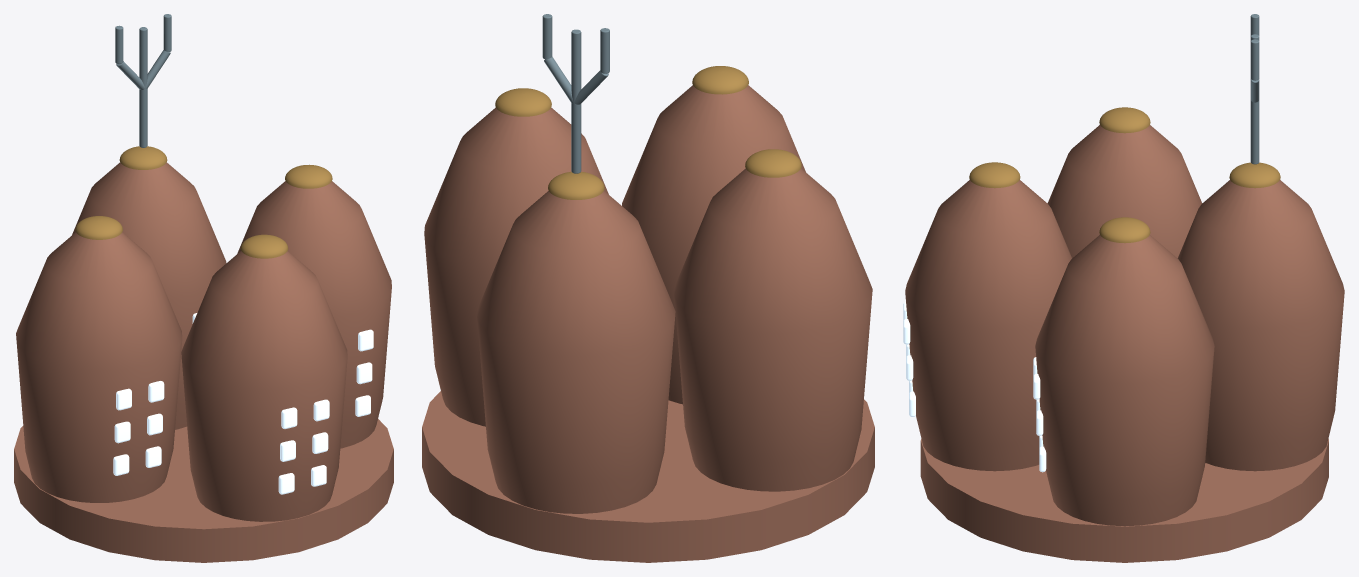
The picture shows the model from 3 angles, left to right: view 1: azimuth 30°, elevation 25°; view 2: azimuth 150°, elevation 25°; view 3: azimuth 270°, elevation 25°; orthographic projection. The views are drawn at different scales.
Parts seen in each view (by area): view 1: Bulb shaped chamber.002, Bulb shaped chamber.001, Foundation drum, Bulb shaped chamber.003, Bulb shaped chamber, Aerial stem, Tower crown.002, Tower crown.001, Tower crown.003, Tower crown; view 2: Bulb shaped chamber.001, Bulb shaped chamber, Foundation drum, Bulb shaped chamber.003, Bulb shaped chamber.002, Aerial stem, Tower crown.001, Tower crown.003, Tower crown.002, Tower crown; view 3: Bulb shaped chamber.003, Bulb shaped chamber, Bulb shaped chamber.002, Foundation drum, Bulb shaped chamber.001, Tower crown.001, Tower crown.003, Tower crown.002, Tower crown, Aerial stem.
Part boxes in pixels (x1,y1,x2,y2): Bulb shaped chamber.002: [181, 251, 347, 521]; Bulb shaped chamber.001: [16, 232, 182, 502]; Foundation drum: [14, 419, 393, 562]; Bulb shaped chamber.003: [237, 181, 391, 448]; Bulb shaped chamber: [72, 162, 226, 429]; Aerial stem: [139, 27, 147, 147]; Tower crown.002: [240, 234, 288, 258]; Tower crown.001: [75, 216, 122, 239]; Tower crown.003: [285, 164, 332, 188]; Tower crown: [119, 146, 167, 169]; Bulb shaped chamber.001: [674, 168, 872, 491]; Bulb shaped chamber: [477, 191, 675, 513]; Foundation drum: [422, 391, 874, 562]; Bulb shaped chamber.003: [424, 107, 608, 426]; Bulb shaped chamber.002: [622, 85, 805, 404]; Aerial stem: [571, 29, 581, 173]; Tower crown.001: [745, 149, 801, 177]; Tower crown.003: [495, 88, 551, 116]; Tower crown.002: [692, 66, 748, 94]; Tower crown: [548, 171, 604, 199]; Bulb shaped chamber.003: [1035, 235, 1214, 526]; Bulb shaped chamber: [1177, 180, 1344, 471]; Bulb shaped chamber.002: [905, 180, 1071, 471]; Foundation drum: [920, 438, 1328, 562]; Bulb shaped chamber.001: [1047, 125, 1202, 258]; Tower crown.001: [1099, 107, 1150, 133]; Tower crown.003: [1099, 217, 1150, 243]; Tower crown.002: [969, 162, 1020, 188]; Tower crown: [1229, 162, 1280, 188]; Aerial stem: [1250, 34, 1259, 164].
Bounding box in the file's own units: 2.2 × 2.47 × 2.21.
